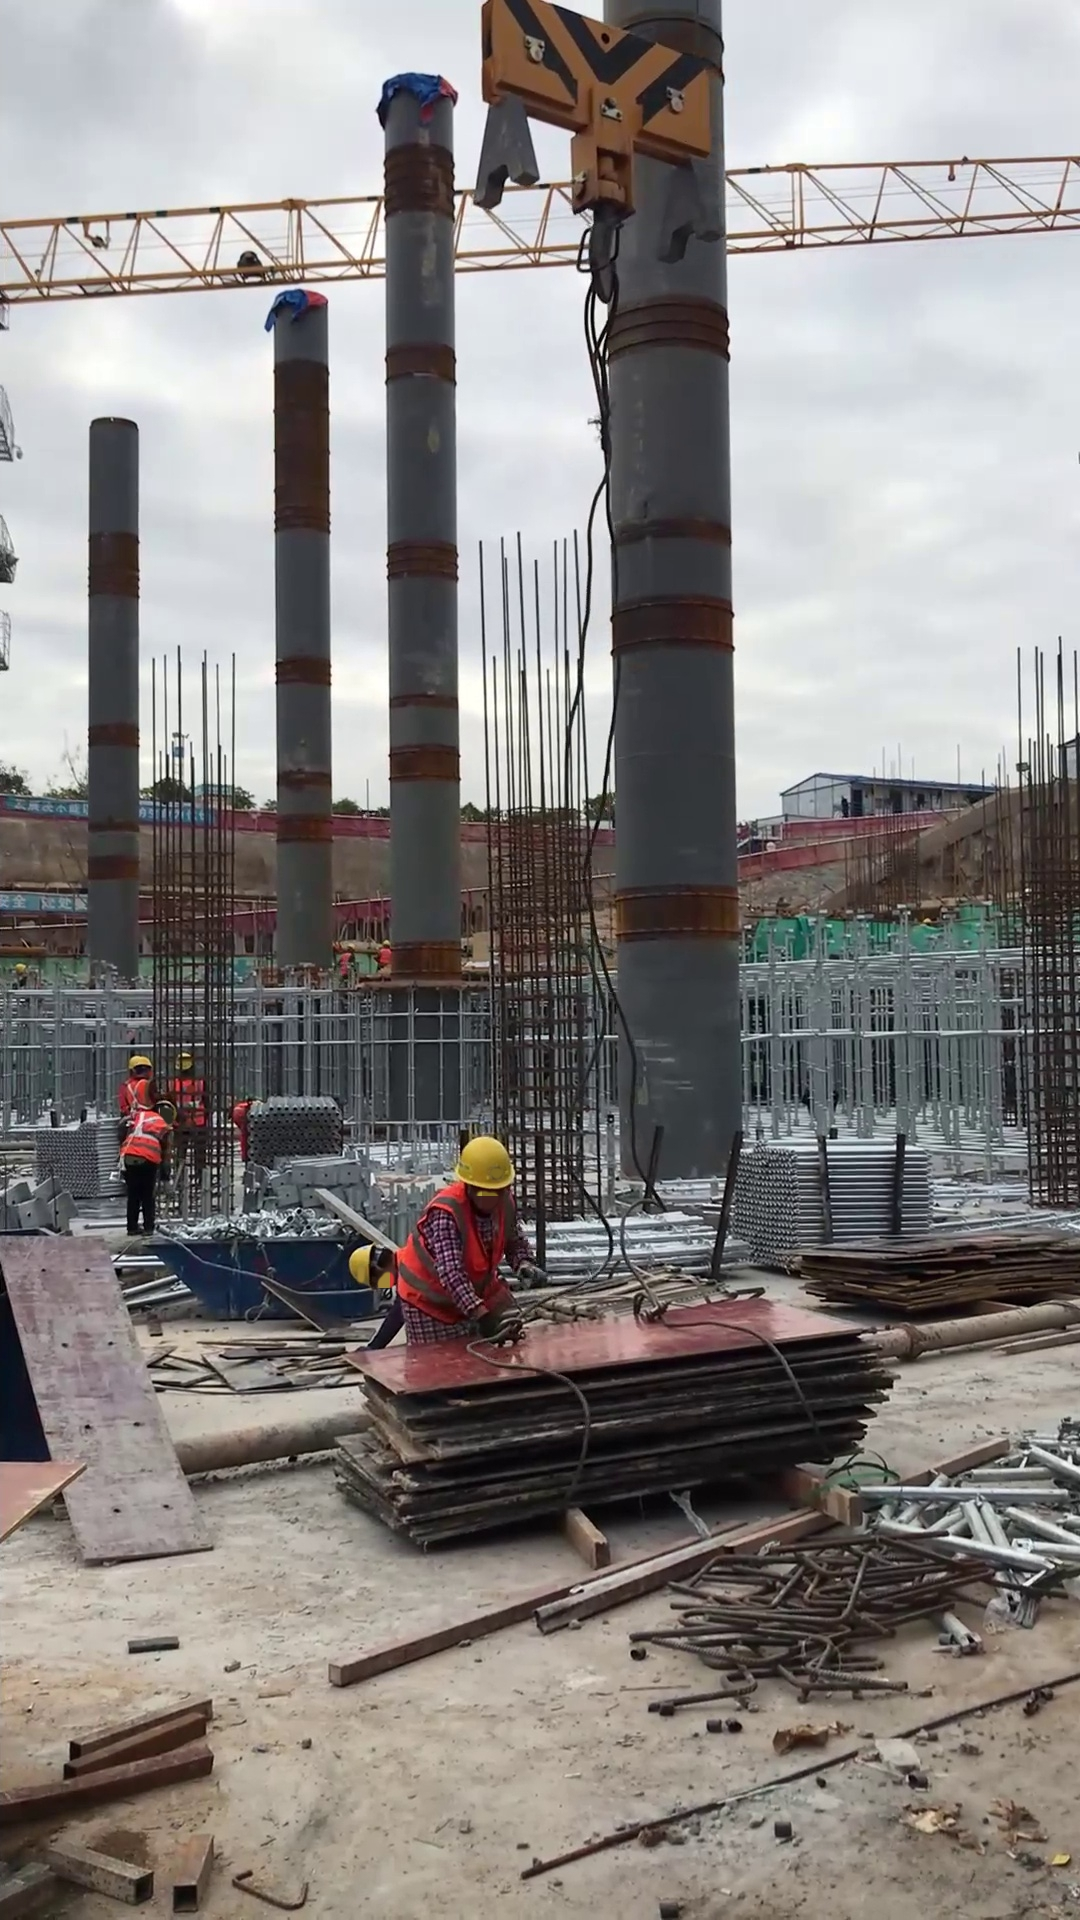board: (333, 1296, 893, 1543), (774, 1233, 1080, 1313)
helmet: (451, 1133, 518, 1192), (344, 1239, 378, 1291), (124, 1053, 154, 1073), (174, 1049, 194, 1073), (13, 961, 27, 975), (344, 942, 356, 951), (382, 937, 391, 948)
hook: (469, 1, 728, 306)
hopper: (140, 1233, 381, 1323)
person: (393, 1131, 547, 1346), (116, 1100, 180, 1236), (164, 1048, 215, 1195), (118, 1052, 157, 1114), (335, 939, 358, 982), (374, 935, 394, 974)
scaffold: (729, 1137, 938, 1270), (513, 1209, 742, 1284), (33, 1118, 122, 1200), (245, 1096, 342, 1164)
slogan: (1, 791, 213, 826), (1, 888, 96, 914)
vest: (398, 1181, 517, 1324), (118, 1108, 168, 1165), (170, 1075, 208, 1129), (120, 1072, 151, 1117), (338, 950, 352, 978), (379, 946, 393, 966)
